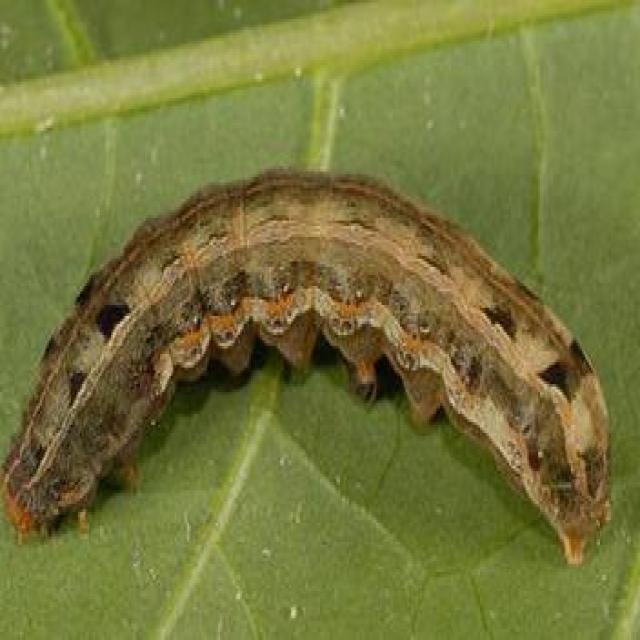armyworm: (1, 139, 626, 600)
